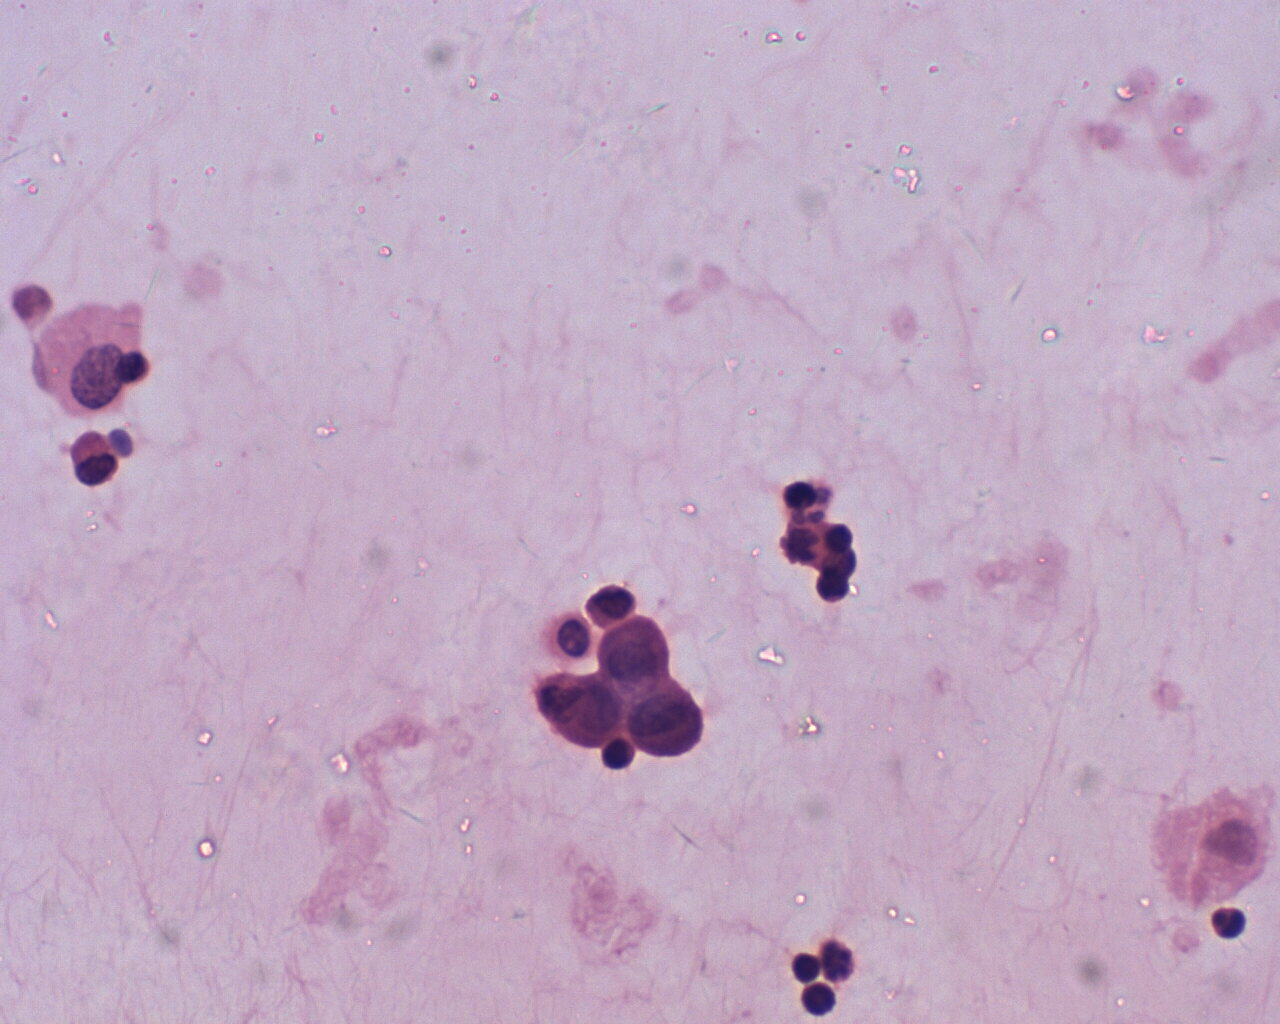ab: (625, 681, 704, 759), (602, 618, 677, 696)
neutro: (1205, 905, 1247, 945)
